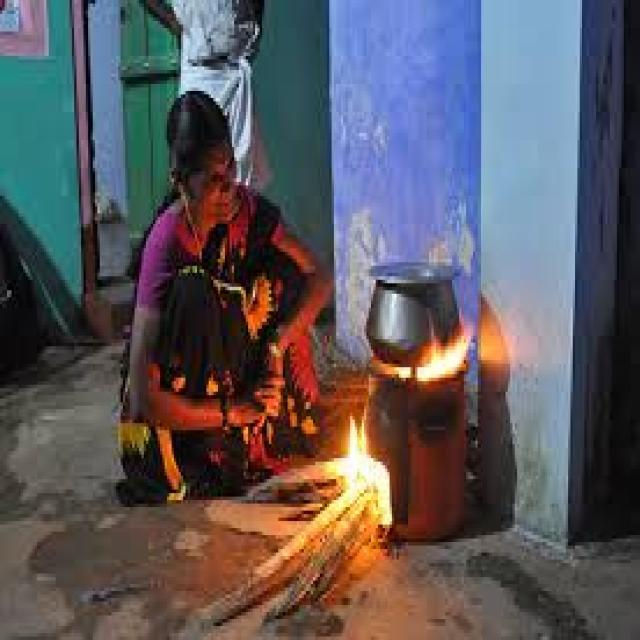fire: (314, 409, 392, 523), (370, 324, 471, 382)
